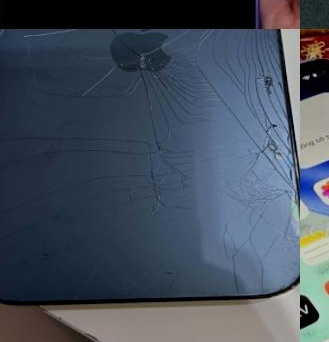physical_damage: (196, 132, 295, 257), (85, 123, 194, 217), (17, 29, 187, 86), (201, 29, 267, 134), (0, 133, 63, 236), (28, 83, 187, 120)
